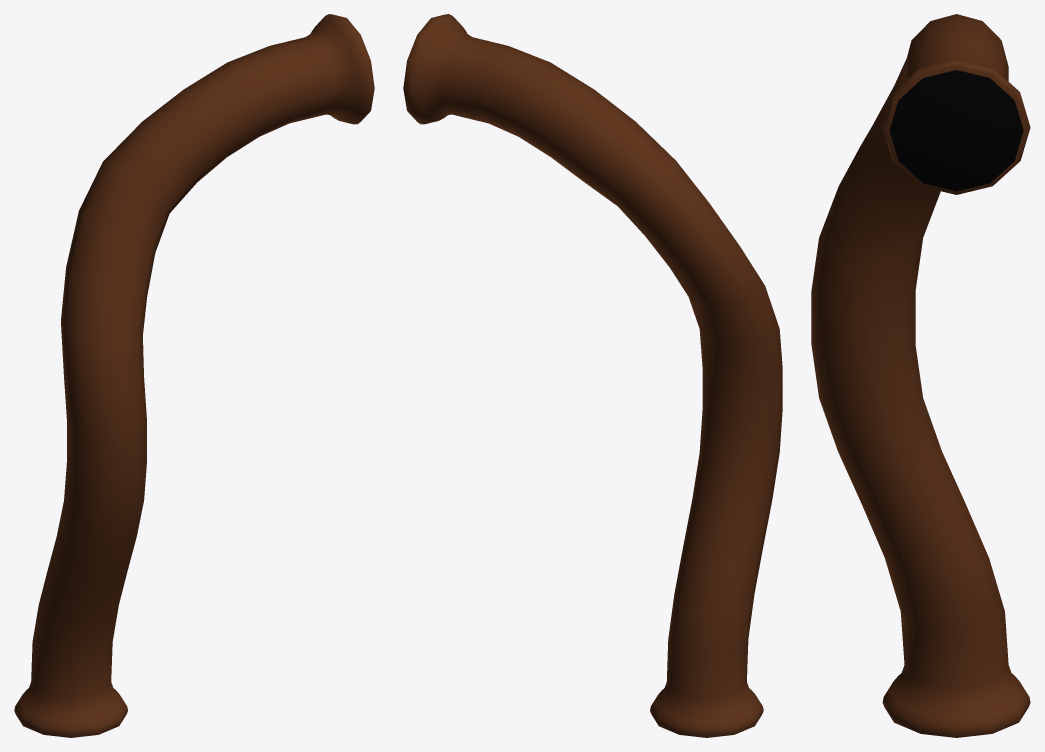
File: Pipe_Curve_2x2_4m_Bent_R.fbx
3 views of the same model, side by side, from view 1: azimuth 30°, elevation 25°; view 2: azimuth 150°, elevation 25°; view 3: azimuth 270°, elevation 25° (orthographic). The views are drawn at different scales.
Parts seen in each view (by area): view 1: Pipe_Curve_2x2_4m_Bent_R; view 2: Pipe_Curve_2x2_4m_Bent_R; view 3: Pipe_Curve_2x2_4m_Bent_R.
Boxes of the visible parts, box(x1,y1,x2,y2) form: Pipe_Curve_2x2_4m_Bent_R: box(14, 14, 374, 737); Pipe_Curve_2x2_4m_Bent_R: box(403, 14, 782, 737); Pipe_Curve_2x2_4m_Bent_R: box(811, 14, 1030, 737).
Bounding box in the file's own units: 236 × 436 × 105.
